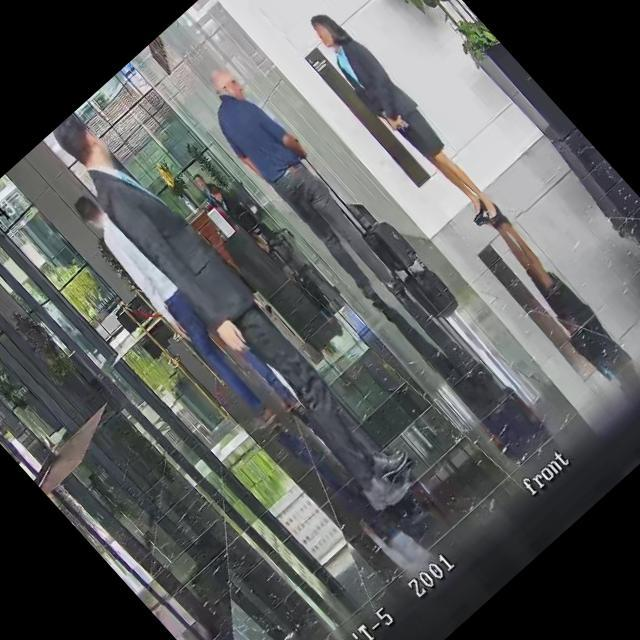person: (40, 99, 426, 518), (182, 56, 420, 312), (64, 185, 288, 428), (297, 2, 514, 236), (198, 170, 282, 260), (190, 168, 227, 205)
